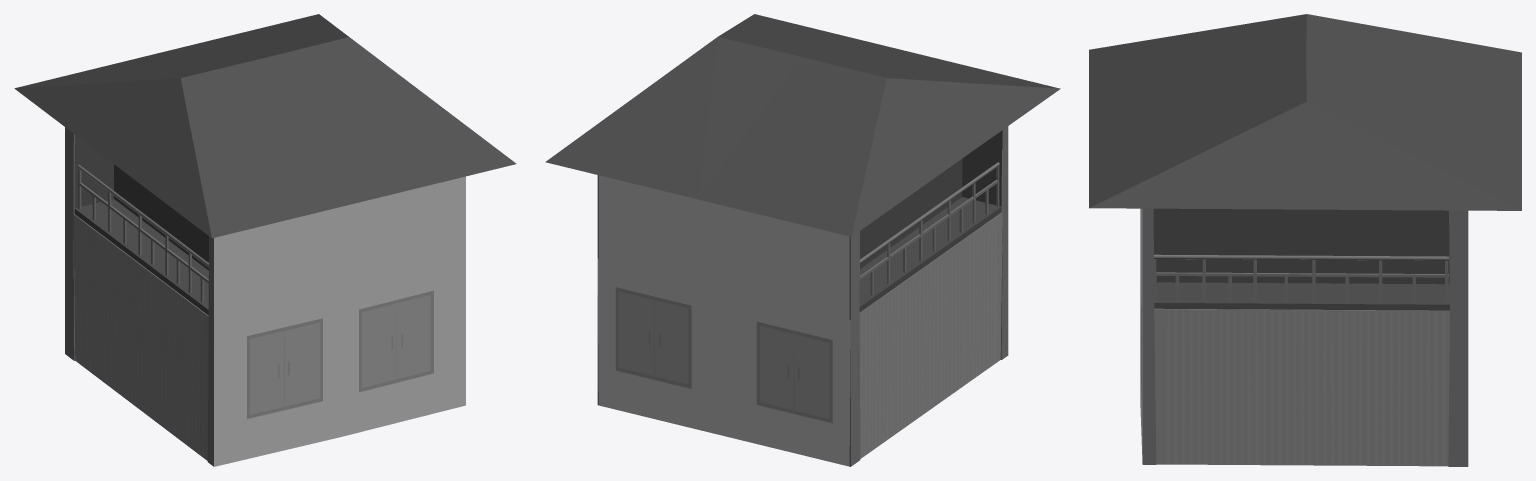
Rendered from Home_S_05.FBX.
3 renders of one model, left to right at view 1: azimuth 30°, elevation 25°; view 2: azimuth 150°, elevation 25°; view 3: azimuth 270°, elevation 25°, orthographic. The views are drawn at different scales.
Parts seen in each view (by area): view 1: Box021; view 2: Box021; view 3: Box021.
Part boxes in pixels (x1,y1,x2,y2): Box021: (14,14,516,466); Box021: (545,14,1060,466); Box021: (1089,14,1521,466).
Size of the model in its own units: 24.41 by 27.69 by 24.19.
